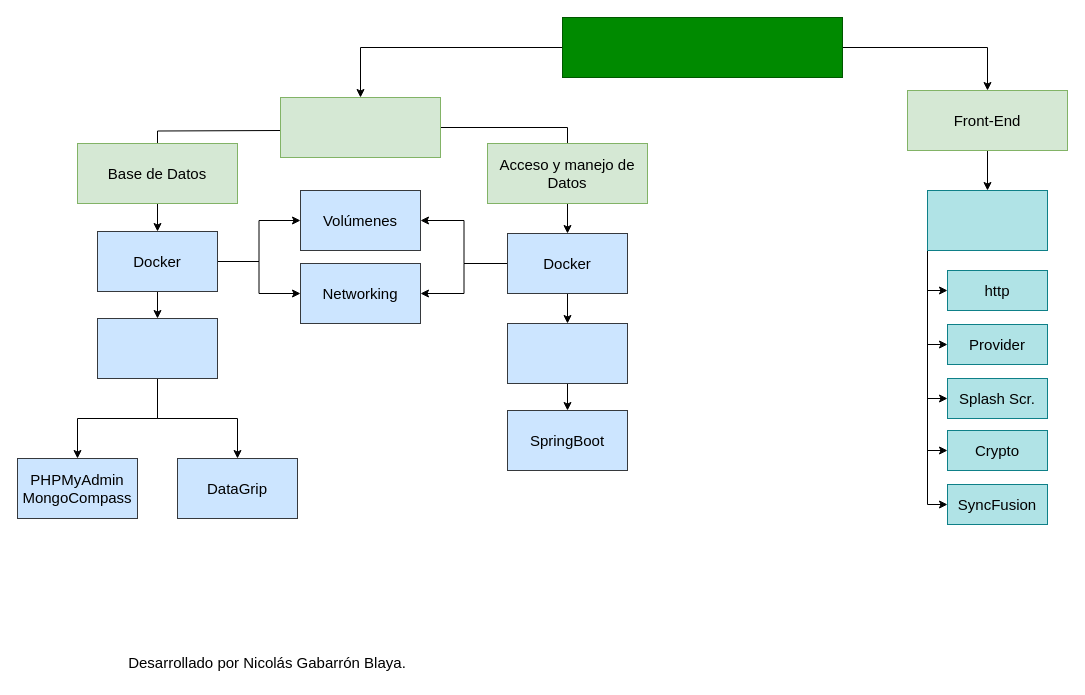
The diagram is 1085 pixels wide and 695 high, and some of its shapes have lost their labels. Here are the shapes that lost their labels. From the top down, the centre of each, then its label:
At point 702,47: "TECNOLOGÍAS A UTILIZAR".
At point 360,127: "Back-End".
At point 987,220: "Flutter".
At point 157,348: "MariaDB MongoDB".
At point 567,353: "OpenJDK".
